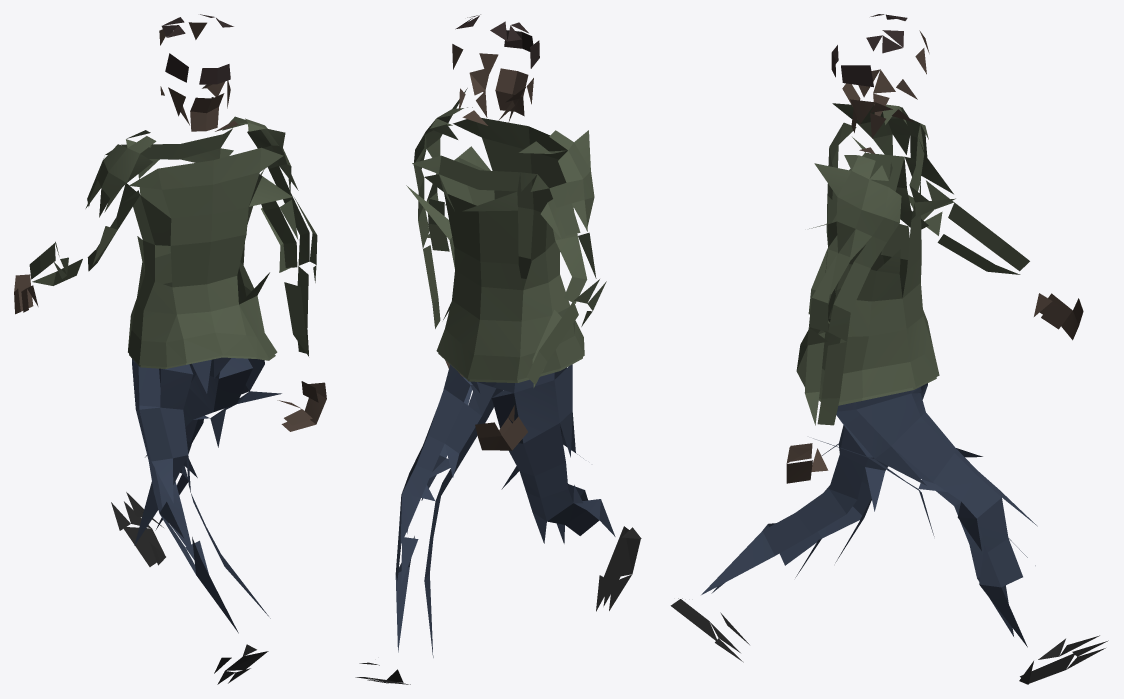
Rendered from personfar_1_w3.fbx.
3 renders of one model, left to right at view 1: azimuth 30°, elevation 25°; view 2: azimuth 150°, elevation 25°; view 3: azimuth 270°, elevation 25°, orthographic. The views are drawn at different scales.
Parts seen in each view (by area): view 1: BaseHuman; view 2: BaseHuman; view 3: BaseHuman.
Boxes of the visible parts, x1=… form: BaseHuman: x1=14, y1=14, x2=326, y2=684; BaseHuman: x1=355, y1=14, x2=641, y2=684; BaseHuman: x1=670, y1=14, x2=1108, y2=684.
Size of the model in its own units: 0.357 by 0.9774 by 0.5902.
